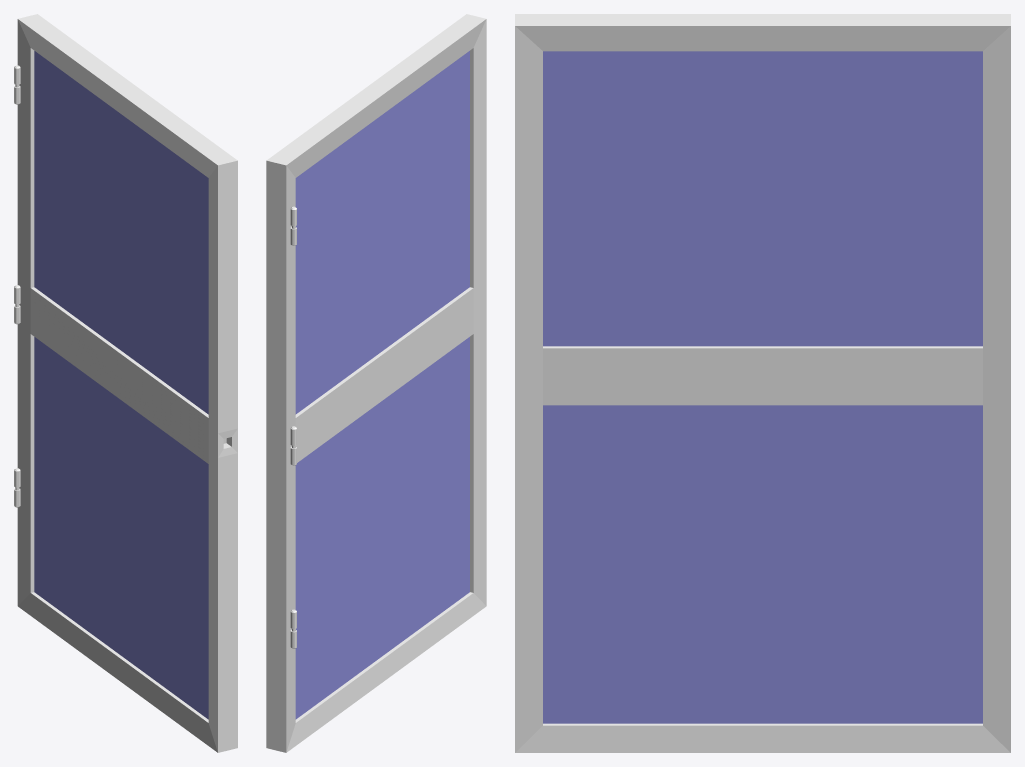
File: PanelDoor.fbx
3 views of the same model, side by side, from view 1: azimuth 30°, elevation 25°; view 2: azimuth 150°, elevation 25°; view 3: azimuth 270°, elevation 25° (orthographic). The views are drawn at different scales.
Parts seen in each view (by area): view 1: Door; view 2: Door; view 3: Door.
Part boxes in pixels (<box>): Door: <box>14,14,237,752</box>; Door: <box>266,14,486,752</box>; Door: <box>515,14,1010,752</box>.
Bounding box in the file's own units: 13.71 × 287 × 177.
